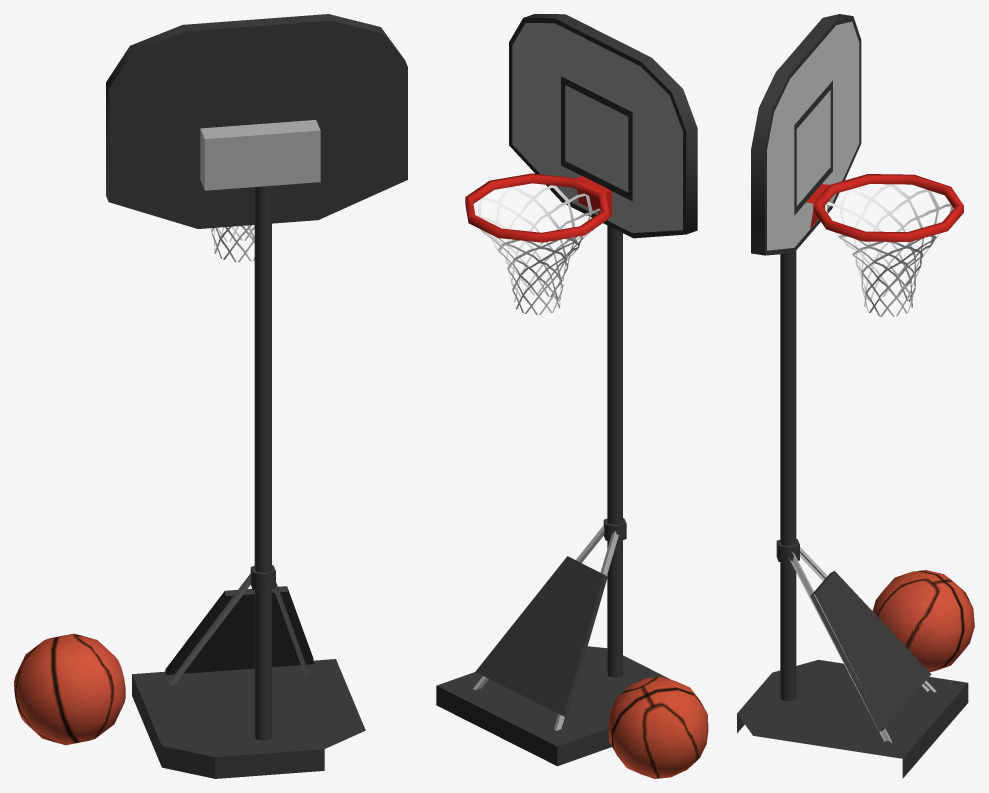
File: interior_A_016.fbx
The picture shows the model from 3 angles, left to right: view 1: azimuth 30°, elevation 25°; view 2: azimuth 150°, elevation 25°; view 3: azimuth 270°, elevation 25°; orthographic projection. The views are drawn at different scales.
Parts seen in each view (by area): view 1: interior_A_016; view 2: interior_A_016; view 3: interior_A_016.
Part boxes in pixels (bbox=[...]): interior_A_016: bbox=[14, 14, 407, 778]; interior_A_016: bbox=[436, 14, 708, 778]; interior_A_016: bbox=[737, 14, 974, 778].
Bounding box in the file's own units: 102 × 236 × 75.07.
